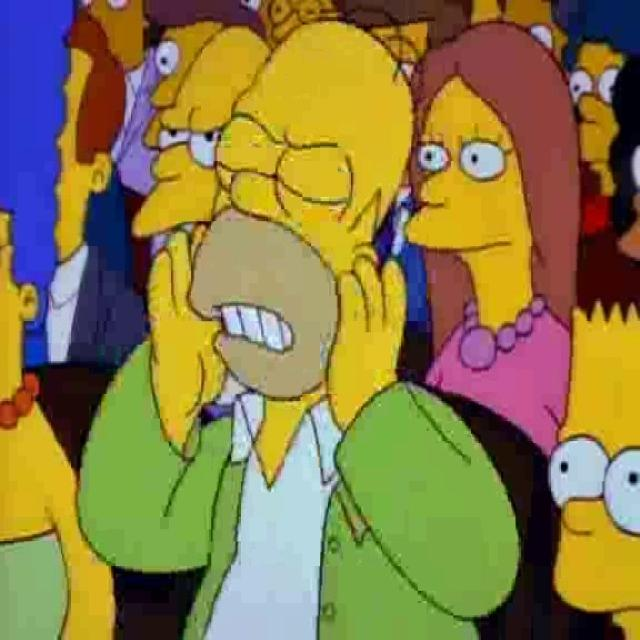Bart Simpson: (544, 300, 640, 640)
Homer Simpson: (186, 12, 418, 403)
Marge Simpson: (0, 1, 71, 433)
